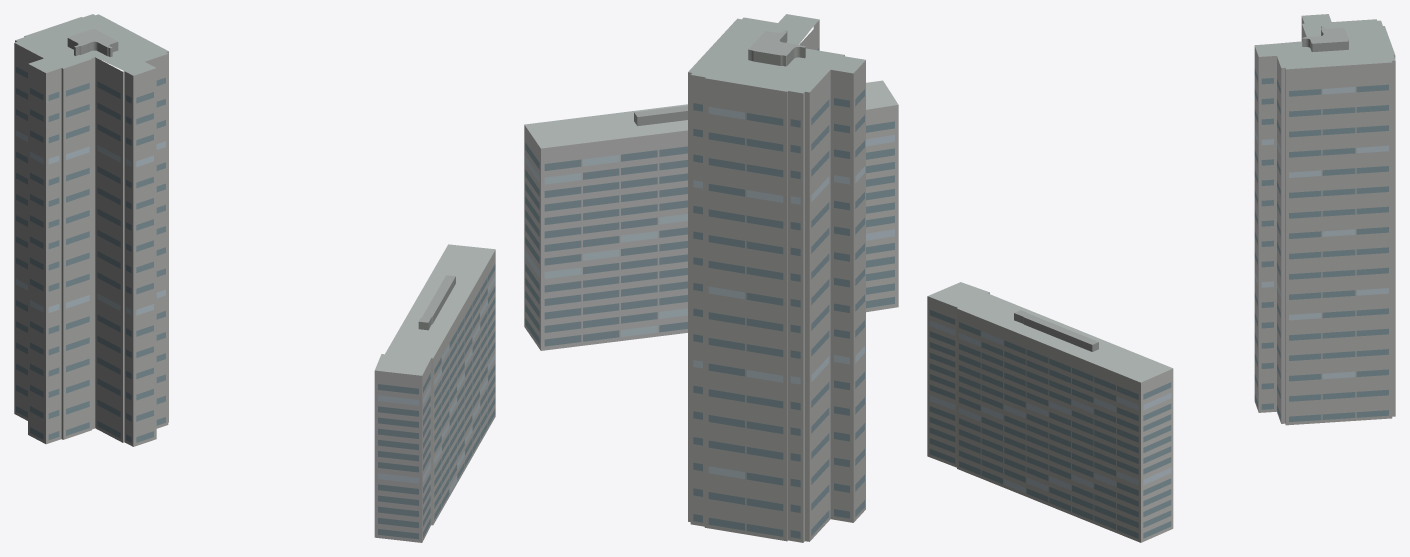
File: apt-a10025755.glb
The picture shows the model from 3 angles, left to right: view 1: azimuth 30°, elevation 25°; view 2: azimuth 150°, elevation 25°; view 3: azimuth 270°, elevation 25°; orthographic projection. The views are drawn at different scales.
Visible parts, largest first — view 1: apt-a10025755; view 2: apt-a10025755; view 3: apt-a10025755.
Boxes of the visible parts, bbox=[...] form: apt-a10025755: bbox=[14, 14, 495, 542]; apt-a10025755: bbox=[524, 14, 898, 542]; apt-a10025755: bbox=[927, 14, 1395, 542].
Bounding box in the file's own units: 106 × 104 × 121.
